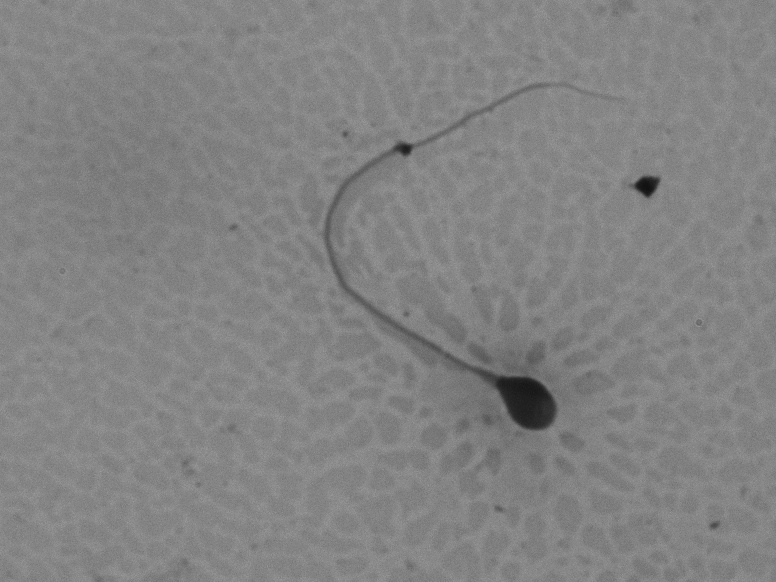Abnormal: (296, 56, 716, 456)
